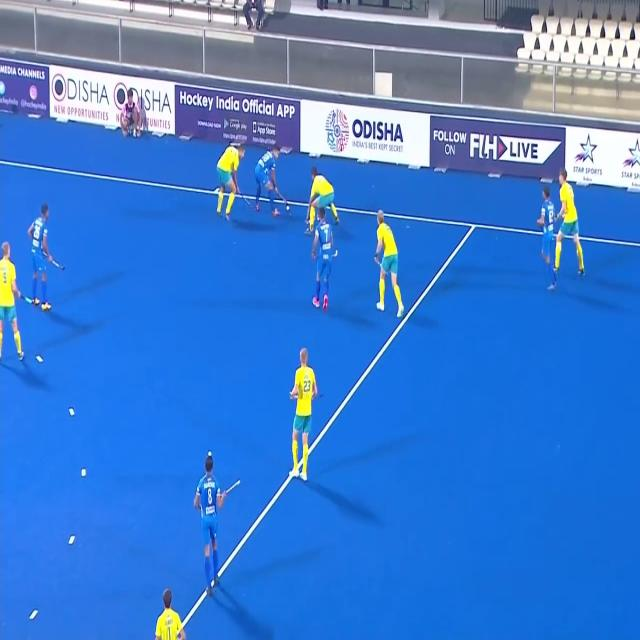ball: (283, 202, 291, 216)
